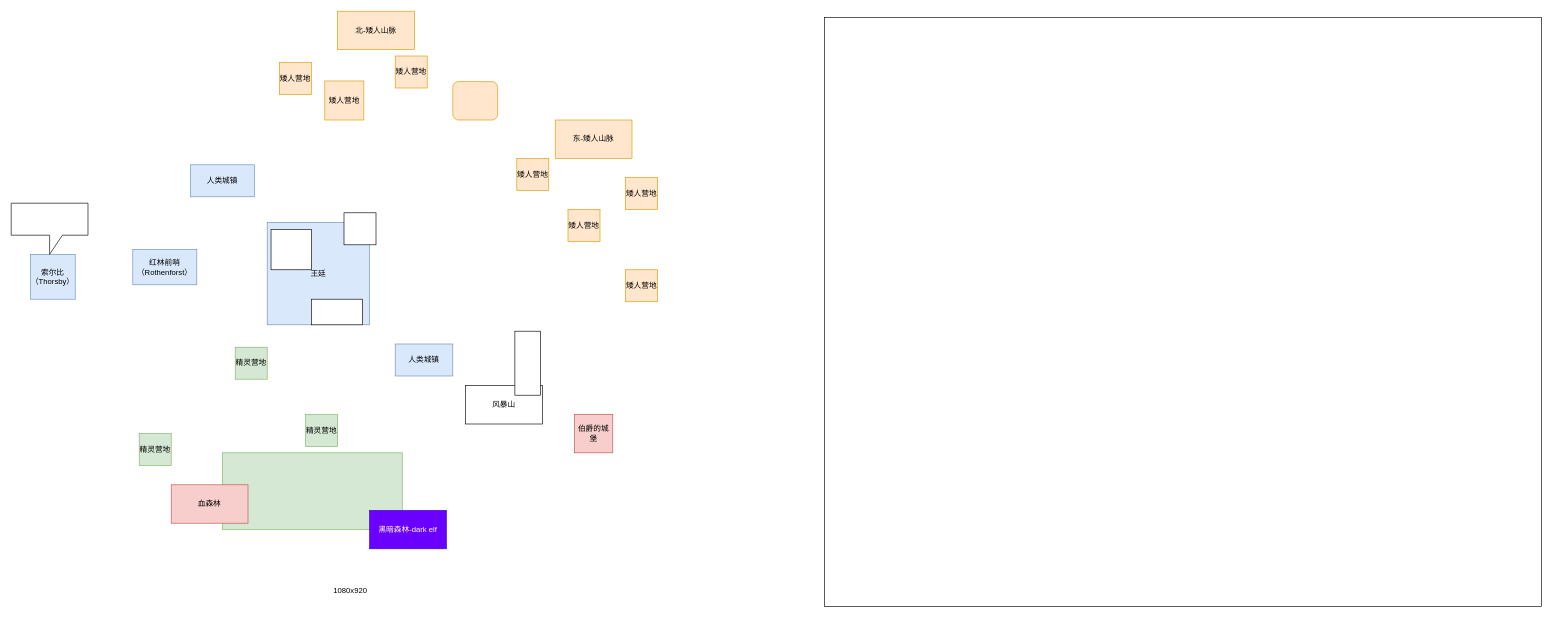
Image size: 1553x618. Some labels were removed from this diagram. The centre of each missing label's shape, as x and y in pixels:
初始村: the point at 49,228
刺客公会: the point at 337,312
教廷: the point at 290,249
精灵森林: the point at 312,491
铁王座: the point at 475,100
高塔-黑龙: the point at 527,363
魔法学院: the point at 359,228
